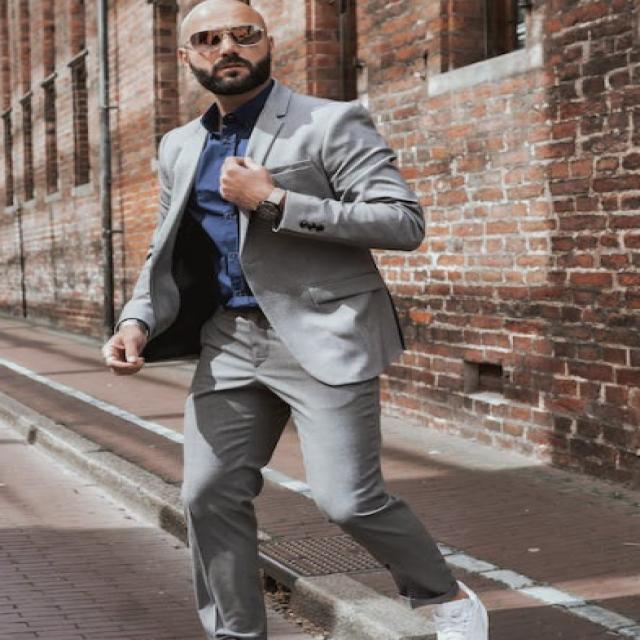Watch: (241, 188, 286, 235)
